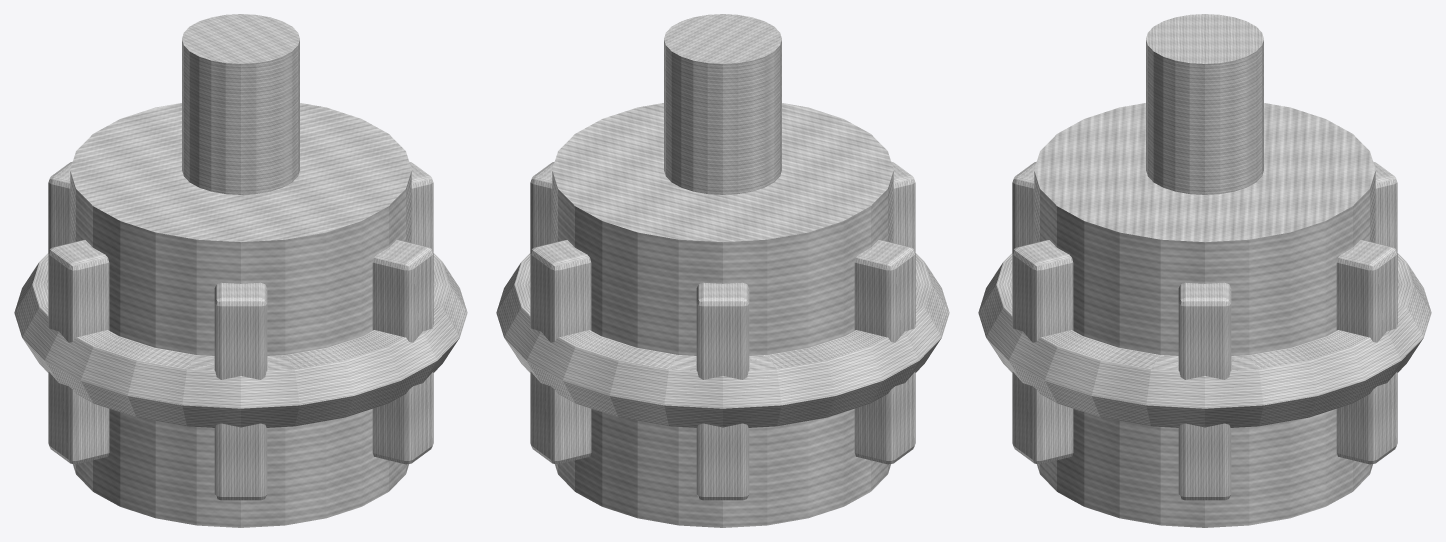
The model's file is item-cooling-system_variant_a.glb.
The picture shows the model from 3 angles, left to right: view 1: azimuth 30°, elevation 25°; view 2: azimuth 150°, elevation 25°; view 3: azimuth 270°, elevation 25°; orthographic projection.
Parts seen in each view (by area): view 1: Mechanical core, Rotor ring.001, Shaft, Cooling fin.004, Cooling fin.006, Cooling fin.005, Cooling fin.001, Cooling fin.003; view 2: Mechanical core, Rotor ring.001, Shaft, Cooling fin.002, Cooling fin.004, Cooling fin.003, Cooling fin.001, Cooling fin.005; view 3: Mechanical core, Rotor ring.001, Shaft, Cooling fin.002, Cooling fin.006, Cooling fin.001, Cooling fin.003, Cooling fin.005.
Boxes of the visible parts, x1,y1,x2,y2 form: Mechanical core: (70, 103, 411, 527); Rotor ring.001: (14, 253, 467, 427); Shaft: (182, 14, 299, 194); Cooling fin.004: (48, 240, 109, 464); Cooling fin.006: (372, 240, 433, 464); Cooling fin.005: (214, 282, 267, 500); Cooling fin.001: (409, 162, 433, 251); Cooling fin.003: (48, 162, 72, 251); Mechanical core: (552, 103, 893, 527); Rotor ring.001: (496, 253, 949, 427); Shaft: (664, 14, 781, 194); Cooling fin.002: (530, 240, 591, 464); Cooling fin.004: (854, 240, 915, 464); Cooling fin.003: (696, 282, 749, 500); Cooling fin.001: (530, 162, 554, 251); Cooling fin.005: (891, 162, 915, 251); Mechanical core: (1034, 103, 1375, 527); Rotor ring.001: (978, 253, 1431, 427); Shaft: (1146, 14, 1263, 194); Cooling fin.002: (1336, 240, 1397, 464); Cooling fin.006: (1012, 240, 1073, 464); Cooling fin.001: (1178, 282, 1231, 500); Cooling fin.003: (1373, 162, 1397, 251); Cooling fin.005: (1012, 162, 1036, 251).
Size of what is drawn, in the model's own units: 0.69 by 0.7 by 0.69.
4 materials, 4 textured.
